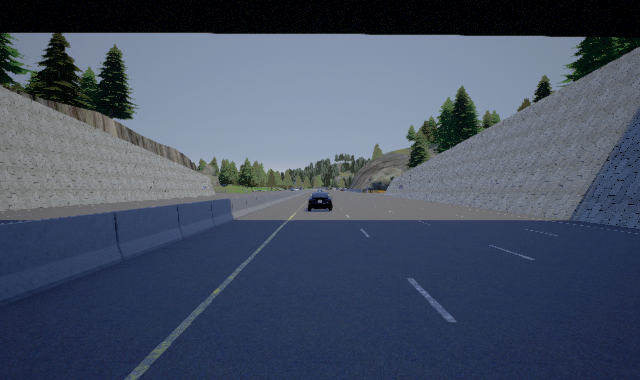vehicle: (307, 189, 333, 211)
